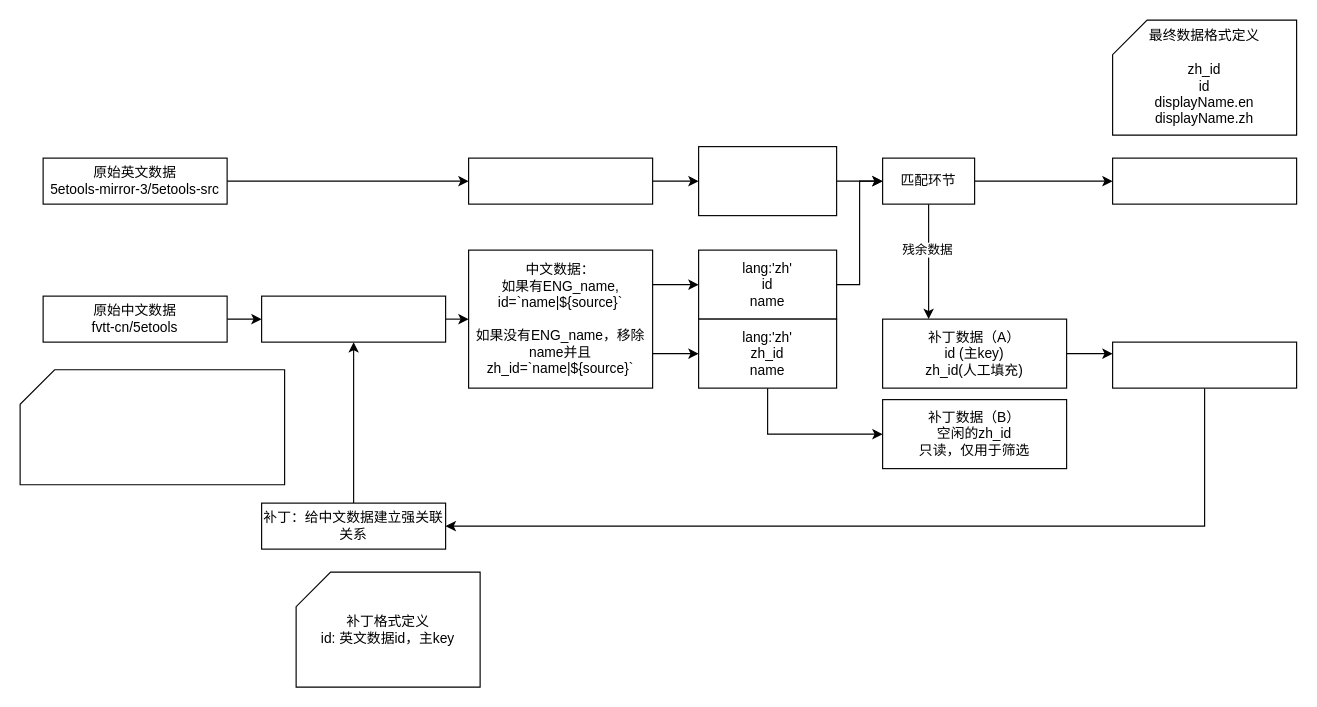
Some shapes in this 1317 by 707 pixel diagram are drawn without their labels. Here are the shapes that lost their labels. From the top down, the centre of each, then its label:
At [560,180]: "英文数据：id=`name|${source}`".
At [767,180]: "lang:'en' id name".
At [1204,180]: "标准数据 en.id == zh.id".
At [353,318]: "维基中文数据 repo待定".
At [1204,364]: "补丁文件 zh_id,en_id".
At [152,427]: "维基中文数据格式定义 zh_id:根据原始中文数据生成，永久不变 id:由维基补丁生成的人工匹配关系，对应英文数据的id zh_name:中文名称".
